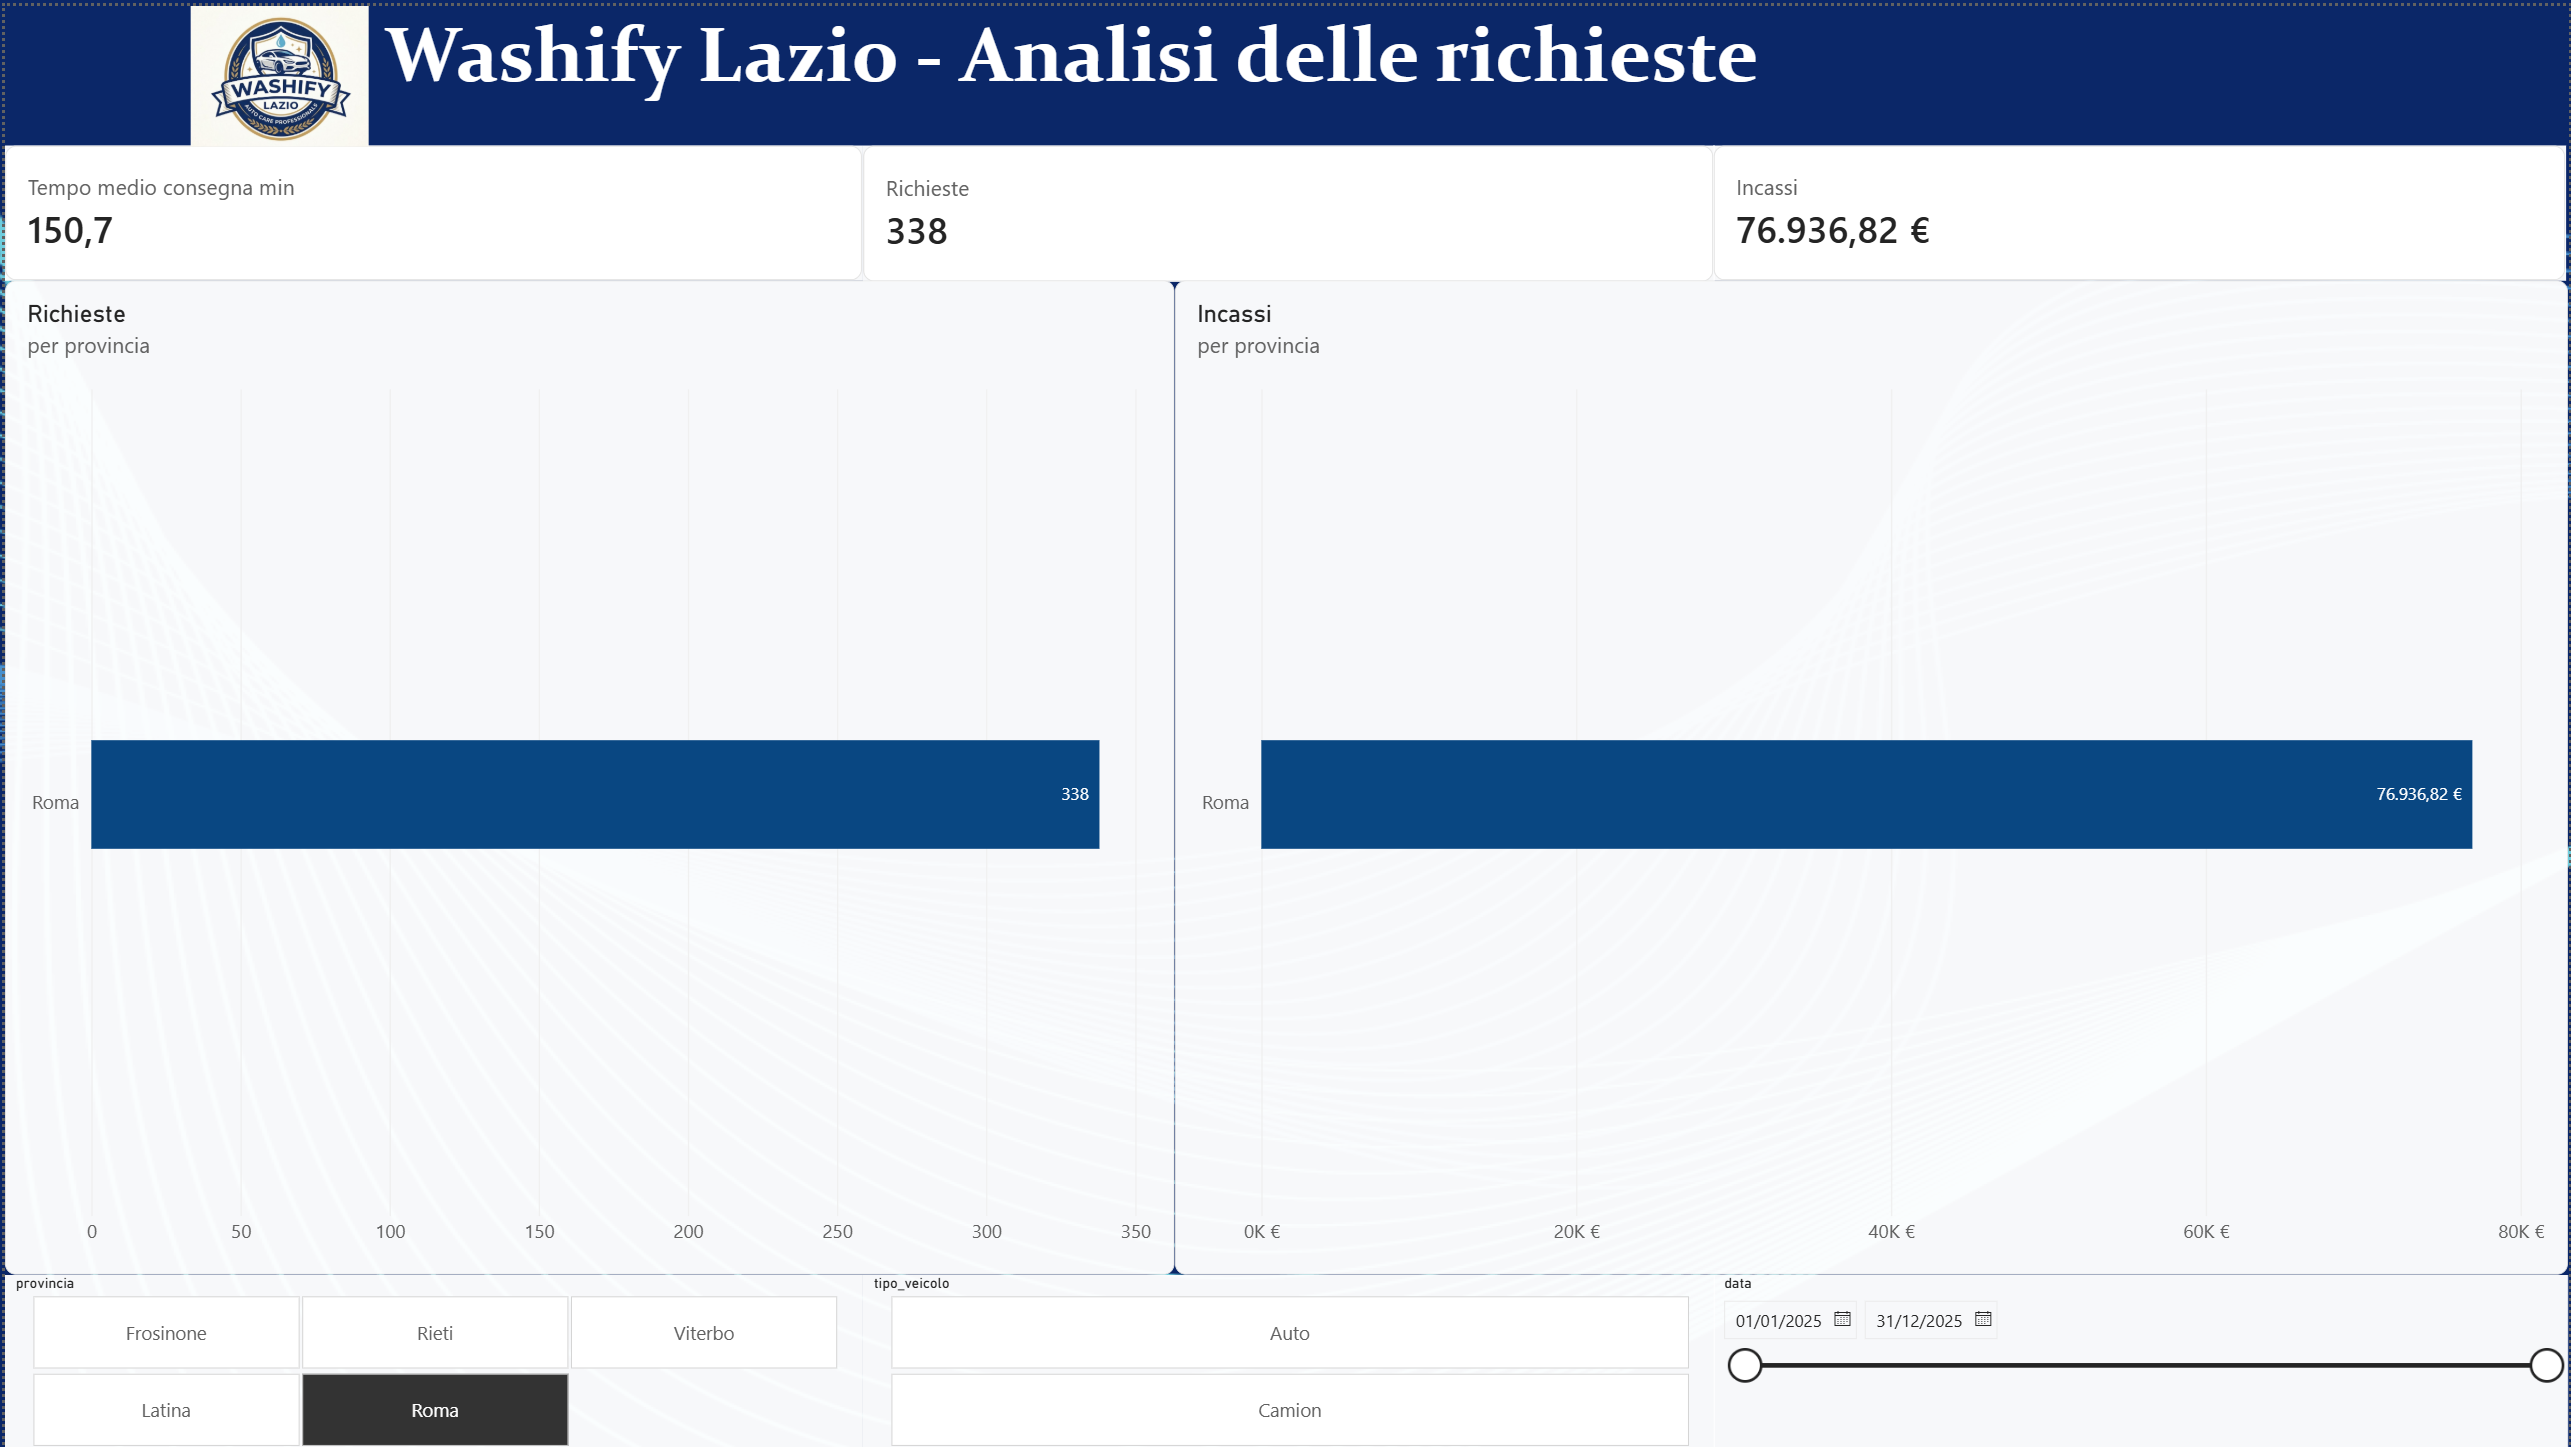

What the dashboard file says about the page in this screenshot:
{"tool":"powerbi","page":{"name":"Panoramica","canvas":[1920,1080],"ordinal":0},"visuals":[{"type":"cardVisual","fields":{"Data":["dim_cliente.Tempo medio consegna"]},"box":[0,104.6,642.5,101.1],"z":0},{"type":"cardVisual","fields":{"Data":["dim_cliente.Richieste"]},"box":[642.5,104.6,637.8,102.2],"z":1000},{"type":"cardVisual","fields":{"Data":["dim_cliente.Incassi"]},"box":[1280.3,104.6,639,101.1],"z":2000},{"type":"clusteredBarChart","fields":{"Category":["dim_cliente.provincia"],"Y":["fact_richieste.Richieste"]},"box":[0,205.6,876,744.7],"z":3000},{"type":"clusteredBarChart","fields":{"Category":["dim_cliente.provincia"],"Y":["fact_richieste.Incassi"]},"box":[876,205.6,1043.3,744.7],"z":4000},{"type":"slicer","fields":{"Values":["dim_cliente.provincia"]},"box":[0,950.3,642.5,130.1],"z":5000},{"type":"slicer","fields":{"Values":["dim_prodotto.tipo_veicolo"]},"box":[642.5,950.3,637.8,130.1],"z":6000},{"type":"slicer","fields":{"Values":["dim_tempo.data"]},"box":[1280.3,950.3,640.1,130.1],"z":7000},{"type":"textbox","box":[284.6,0,1301.2,104.6],"z":8000},{"type":"image","box":[137,0,137,105.4],"z":9000}]}

Visuals, with their boxes in screenshot pixels (x1, y1, x2, y2), scaled from the page's 1920x1080 canvas onto the 2571x1447 screenshot:
cardVisual - dim_cliente.Tempo medio consegna: x1=0, y1=140, x2=860, y2=276
cardVisual - dim_cliente.Richieste: x1=860, y1=140, x2=1714, y2=277
cardVisual - dim_cliente.Incassi: x1=1714, y1=140, x2=2570, y2=276
clusteredBarChart - dim_cliente.provincia x fact_richieste.Richieste: x1=0, y1=275, x2=1173, y2=1273
clusteredBarChart - dim_cliente.provincia x fact_richieste.Incassi: x1=1173, y1=275, x2=2570, y2=1273
slicer - dim_cliente.provincia: x1=0, y1=1273, x2=860, y2=1446
slicer - dim_prodotto.tipo_veicolo: x1=860, y1=1273, x2=1714, y2=1446
slicer - dim_tempo.data: x1=1714, y1=1273, x2=2570, y2=1446
textbox: x1=381, y1=0, x2=2123, y2=140
image: x1=183, y1=0, x2=367, y2=141
